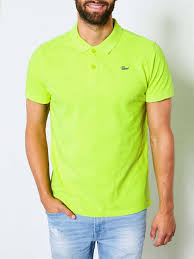C_polo shirt: (25, 22, 178, 214)
